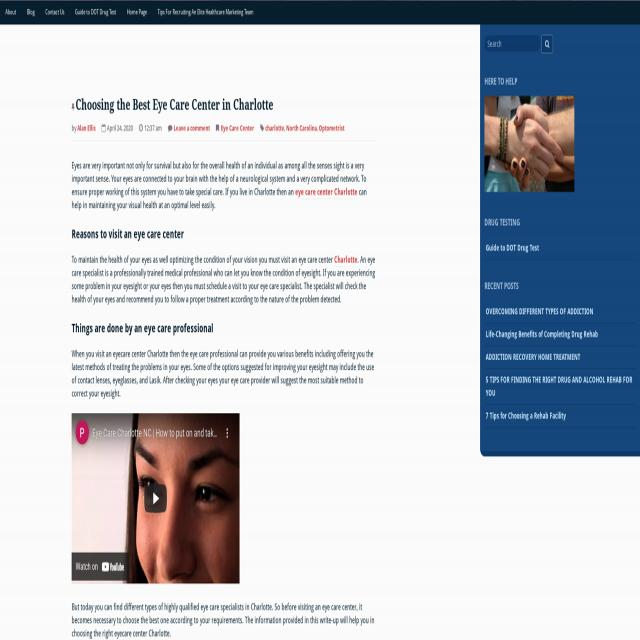button: (72, 413, 240, 584), (484, 96, 574, 192), (152, 0, 259, 24), (70, 0, 121, 24), (40, 0, 70, 24), (122, 0, 152, 24), (144, 484, 167, 512), (0, 0, 22, 24), (21, 0, 40, 24), (75, 421, 89, 445), (221, 422, 232, 442), (541, 34, 553, 52)
field: (484, 36, 540, 51)
